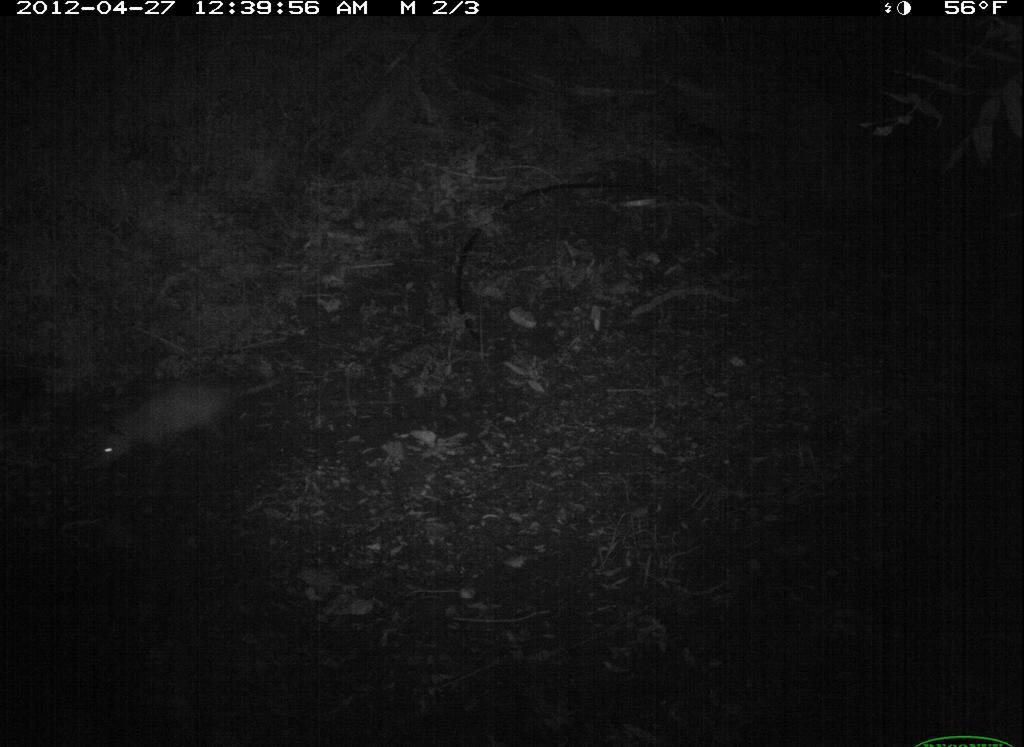opossum: (79, 364, 306, 477)
